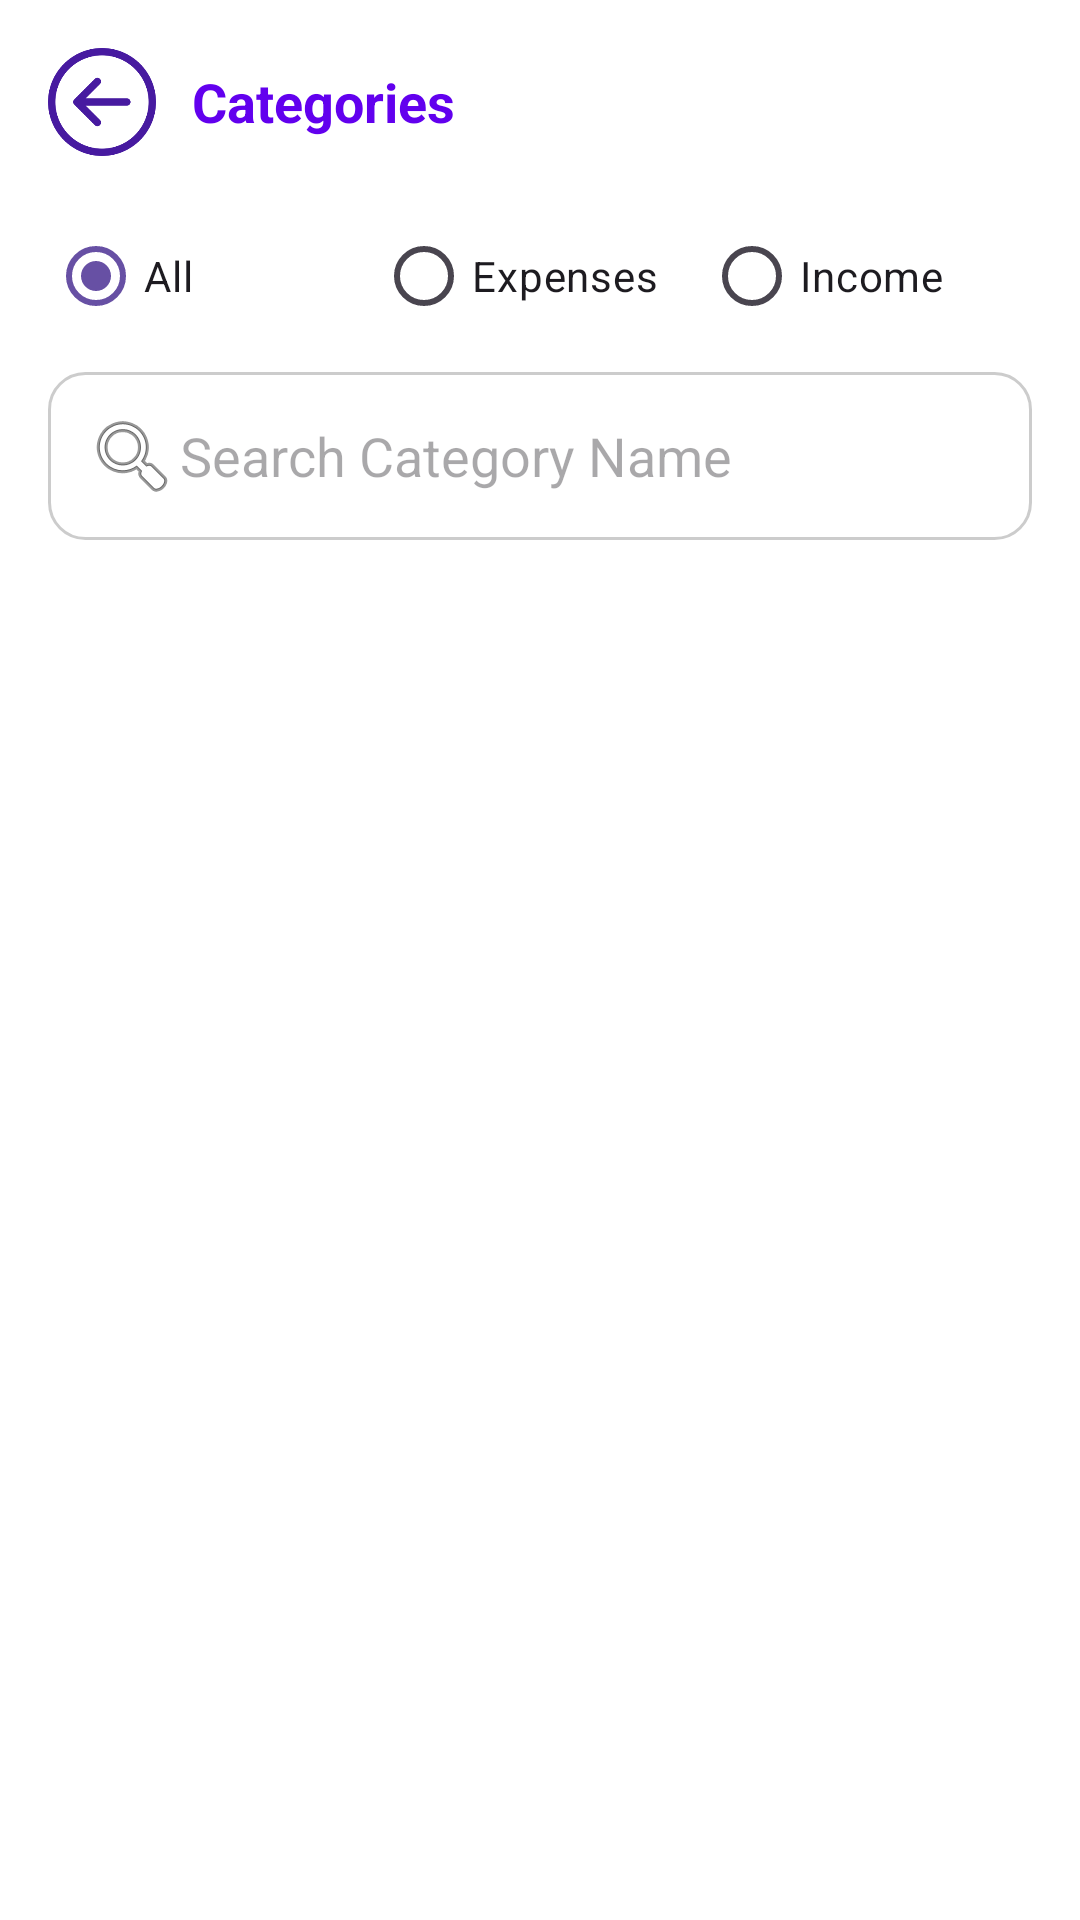

Where to tap for icons on this 1080w x 1920h app screen, as [x,y]:
Back: [102,102]
